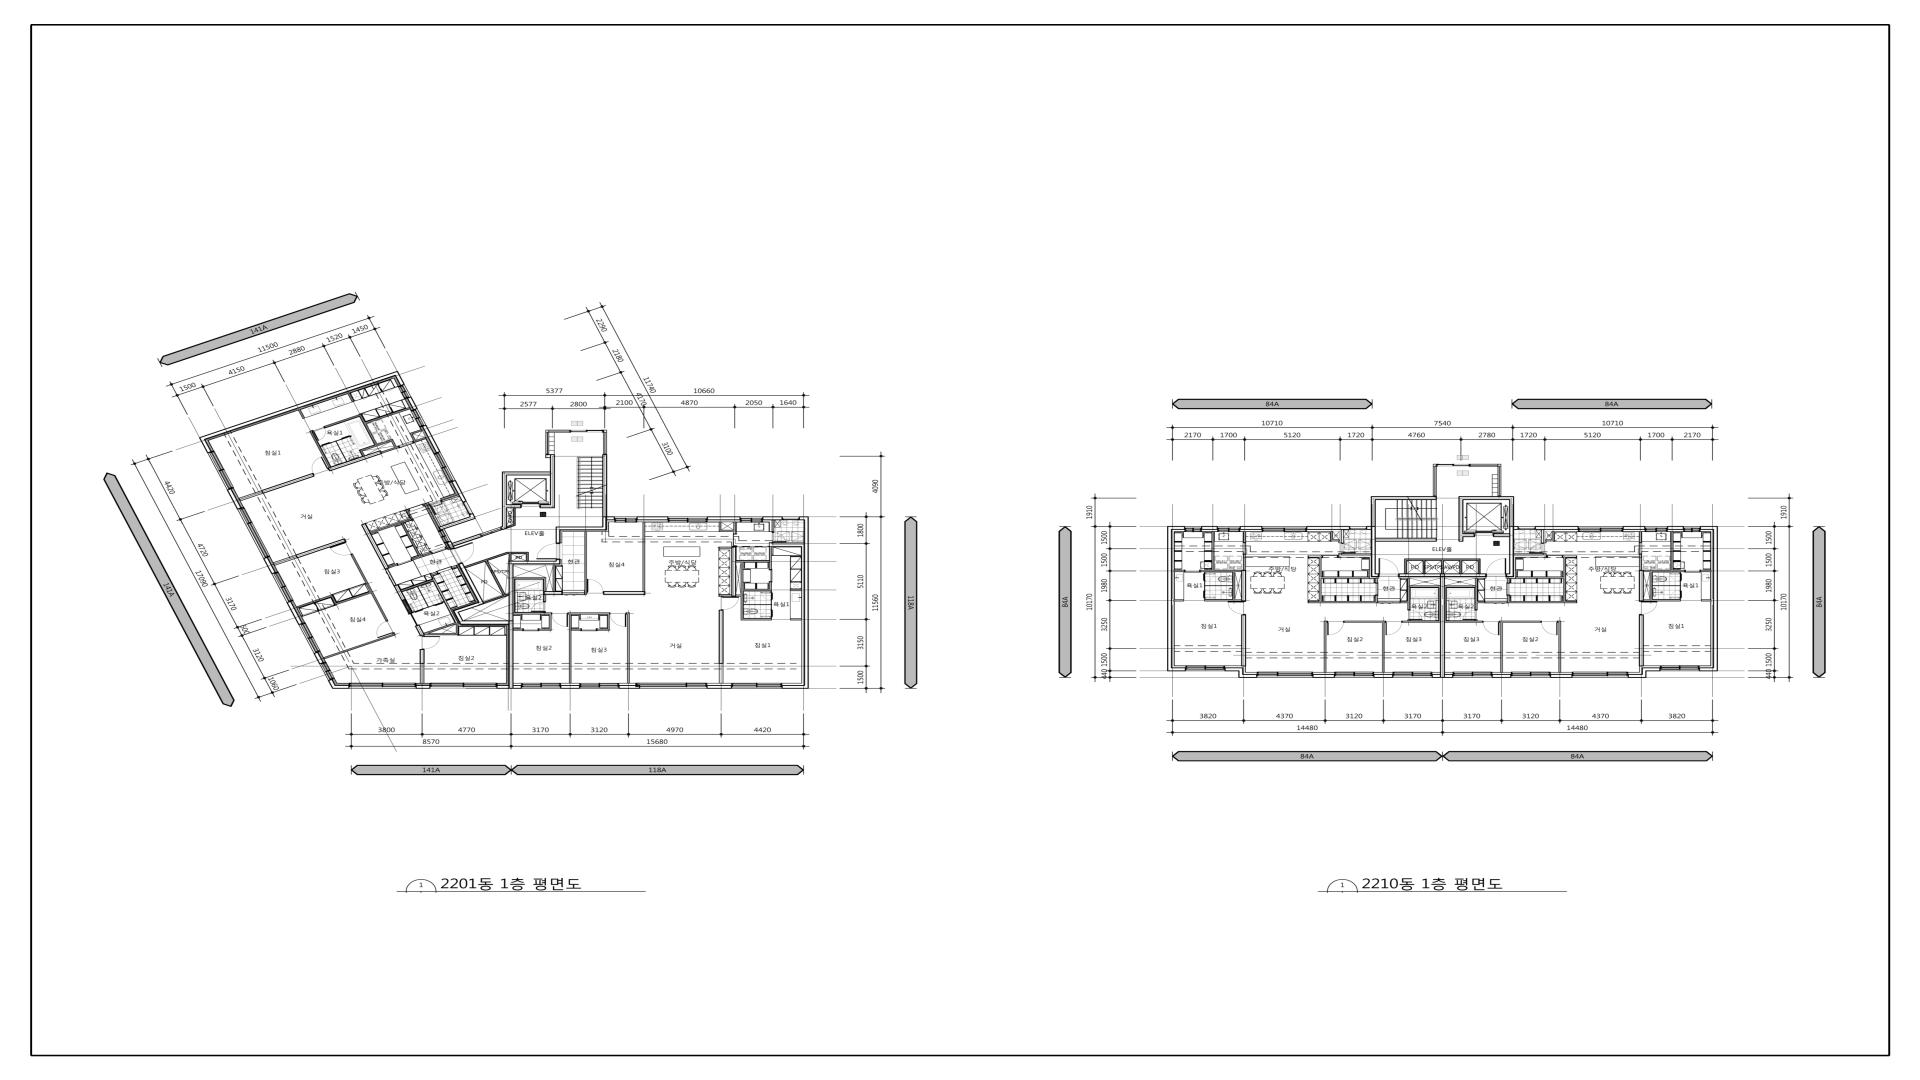door: (451, 542, 481, 564), (330, 542, 353, 560), (371, 620, 394, 638), (1485, 558, 1506, 578), (1378, 558, 1399, 578), (307, 456, 328, 475), (537, 543, 560, 559), (1440, 524, 1458, 542), (609, 612, 626, 628), (551, 612, 568, 628), (430, 500, 447, 516), (311, 426, 330, 440), (1327, 621, 1345, 636), (1385, 621, 1403, 636), (1482, 621, 1501, 636), (1540, 621, 1559, 636), (1639, 601, 1658, 616), (587, 579, 604, 593), (422, 636, 440, 649), (1228, 601, 1246, 615), (721, 596, 738, 609), (385, 568, 397, 585), (320, 442, 335, 454), (340, 435, 355, 447), (530, 601, 546, 612), (1407, 609, 1423, 620), (409, 601, 423, 612), (429, 595, 443, 605), (1341, 543, 1356, 554), (1462, 609, 1477, 620), (1530, 543, 1544, 554), (771, 531, 786, 542), (398, 440, 414, 448), (1204, 589, 1216, 599), (1669, 589, 1681, 599), (761, 592, 771, 601), (1669, 574, 1681, 582), (761, 609, 771, 617), (1204, 574, 1215, 582), (1485, 601, 1507, 604), (563, 592, 584, 595), (1321, 555, 1338, 558), (1684, 570, 1701, 572), (1184, 570, 1200, 572), (1547, 555, 1563, 558), (1244, 542, 1246, 555), (1639, 542, 1642, 555), (1378, 601, 1400, 603)
wall: (199, 371, 400, 440), (351, 554, 388, 621), (323, 633, 396, 659), (430, 574, 458, 622), (361, 524, 389, 570), (328, 450, 382, 471), (458, 563, 484, 605), (261, 473, 314, 493), (295, 538, 347, 558), (310, 430, 331, 468), (464, 551, 508, 568), (1713, 530, 1718, 671), (1167, 530, 1172, 667), (365, 407, 410, 423), (401, 522, 421, 556), (485, 560, 505, 595), (804, 520, 808, 688), (359, 414, 378, 447), (371, 518, 410, 534), (1440, 578, 1445, 678), (324, 414, 360, 429), (335, 591, 371, 605), (422, 425, 440, 452), (423, 621, 459, 634), (438, 517, 472, 530), (297, 595, 331, 608), (401, 579, 434, 592), (286, 601, 303, 625), (452, 601, 480, 615), (452, 534, 483, 546), (427, 504, 440, 527), (452, 481, 467, 502), (227, 488, 241, 509), (719, 609, 724, 663), (626, 612, 630, 683), (550, 455, 555, 508), (1241, 615, 1246, 666), (509, 621, 513, 688), (1639, 616, 1644, 666), (484, 593, 509, 604), (732, 546, 737, 596), (460, 620, 509, 625), (1375, 538, 1440, 542), (1375, 496, 1439, 500), (1370, 526, 1375, 574), (1509, 526, 1514, 574), (239, 491, 262, 501), (273, 555, 297, 566), (603, 455, 607, 517), (335, 442, 347, 462), (417, 587, 429, 607), (502, 472, 506, 529), (509, 564, 513, 621), (1458, 500, 1464, 542), (1458, 496, 1514, 500), (393, 584, 406, 600), (555, 526, 603, 530), (509, 560, 556, 564), (264, 558, 276, 574), (642, 522, 645, 591), (568, 615, 571, 683), (1307, 526, 1350, 530), (1535, 526, 1578, 530), (506, 472, 550, 476), (1241, 570, 1246, 601), (402, 599, 413, 615), (411, 553, 433, 560), (584, 531, 587, 595), (1399, 574, 1440, 578), (604, 591, 645, 595), (1445, 574, 1485, 578), (200, 439, 211, 454), (741, 562, 744, 620), (381, 446, 400, 454), (442, 495, 459, 502), (1324, 622, 1327, 673), (1382, 622, 1385, 673), (1501, 622, 1503, 673), (1559, 622, 1561, 673), (707, 517, 740, 521), (1515, 576, 1564, 579), (1321, 576, 1369, 579), (1639, 570, 1643, 601), (637, 517, 669, 521), (407, 397, 417, 410), (1563, 555, 1565, 601), (405, 508, 414, 521), (1371, 496, 1375, 526), (1319, 558, 1321, 601), (394, 375, 405, 385), (1200, 570, 1241, 572), (1643, 570, 1684, 572), (568, 612, 609, 615), (1510, 500, 1514, 526), (1232, 572, 1236, 599), (455, 612, 463, 625), (719, 663, 724, 683), (1212, 531, 1215, 570), (1643, 599, 1681, 601), (1671, 531, 1673, 570), (1404, 559, 1481, 560), (513, 612, 551, 615), (707, 684, 732, 688), (1204, 599, 1241, 601), (314, 653, 323, 663), (415, 625, 425, 636), (377, 439, 392, 446), (361, 444, 376, 451), (1308, 601, 1378, 603), (513, 579, 516, 613), (1510, 601, 1577, 603), (1240, 526, 1262, 530), (1623, 526, 1646, 530), (782, 684, 804, 688), (425, 633, 458, 636), (413, 436, 426, 443), (736, 560, 769, 563), (1551, 674, 1572, 678), (1313, 674, 1335, 678), (1407, 578, 1410, 609), (1433, 464, 1436, 496), (1469, 464, 1501, 467), (762, 517, 782, 521), (560, 684, 580, 688), (421, 663, 425, 683), (543, 591, 563, 595), (1498, 467, 1501, 496), (419, 649, 425, 663), (1642, 667, 1660, 671), (1629, 674, 1647, 678), (1493, 674, 1511, 678), (1374, 674, 1393, 678), (1238, 674, 1257, 678), (1225, 667, 1244, 671), (1167, 667, 1185, 671), (1700, 526, 1718, 530), (347, 393, 355, 402), (1650, 572, 1652, 599), (603, 517, 608, 530), (555, 530, 560, 543), (298, 409, 305, 419), (1493, 533, 1510, 537), (1167, 526, 1184, 530), (618, 684, 636, 688), (332, 684, 349, 688), (553, 566, 555, 591), (1201, 526, 1217, 530), (1668, 526, 1684, 530), (769, 546, 771, 570), (328, 679, 335, 688), (506, 504, 521, 508), (411, 429, 422, 434), (508, 551, 529, 554), (1499, 621, 1540, 622), (447, 542, 455, 549), (1700, 667, 1713, 671), (1345, 621, 1385, 622), (417, 684, 430, 688), (390, 439, 397, 447), (359, 448, 365, 456), (330, 595, 336, 603), (1403, 621, 1440, 622), (1445, 621, 1482, 622), (513, 508, 516, 526), (389, 563, 398, 568), (506, 524, 516, 529), (1439, 585, 1440, 621), (497, 684, 509, 688), (469, 513, 476, 520), (513, 578, 546, 579), (1464, 533, 1474, 537), (1242, 531, 1246, 542), (1244, 554, 1246, 570), (1476, 578, 1477, 609), (1639, 554, 1642, 570), (539, 504, 550, 508), (331, 439, 342, 443), (410, 433, 415, 440), (549, 615, 551, 630), (607, 615, 609, 630), (1445, 585, 1476, 587), (1514, 554, 1544, 555), (1410, 585, 1439, 587), (742, 618, 771, 620), (423, 605, 433, 609), (744, 589, 771, 591), (744, 604, 771, 605), (1341, 530, 1344, 543), (1308, 555, 1321, 558), (1542, 530, 1544, 543), (1478, 560, 1481, 574), (1460, 560, 1462, 574), (1441, 560, 1444, 574), (1423, 560, 1425, 574), (1404, 560, 1407, 574), (1445, 674, 1453, 678), (1432, 674, 1440, 678), (1370, 574, 1378, 578), (1506, 574, 1514, 578), (607, 517, 615, 521), (513, 684, 521, 688), (543, 579, 546, 591), (733, 522, 736, 534), (771, 520, 774, 531), (790, 588, 802, 591), (1174, 570, 1184, 572), (1565, 555, 1576, 558), (1639, 531, 1642, 542), (1701, 599, 1712, 601), (1701, 570, 1712, 572), (555, 559, 560, 564), (500, 526, 506, 530), (451, 564, 458, 568), (431, 571, 438, 575), (1331, 531, 1333, 541), (799, 517, 808, 520), (456, 624, 459, 633), (719, 522, 721, 531), (1366, 526, 1371, 530), (1440, 574, 1445, 578), (1507, 596, 1510, 603), (509, 554, 512, 560), (526, 554, 529, 560), (543, 595, 546, 601), (719, 595, 732, 596), (719, 547, 732, 549), (769, 583, 771, 589), (1514, 526, 1518, 530), (721, 530, 733, 531), (790, 618, 802, 620), (1642, 671, 1647, 674), (1238, 671, 1244, 674), (1375, 596, 1378, 601), (1375, 578, 1378, 583), (1507, 578, 1510, 583), (571, 629, 582, 630), (1204, 582, 1205, 591), (1680, 582, 1681, 591), (539, 629, 549, 630), (513, 629, 522, 630), (597, 629, 607, 630), (1477, 601, 1485, 603), (1545, 539, 1553, 541), (1552, 531, 1553, 539), (546, 455, 550, 458), (1333, 539, 1340, 541), (1400, 601, 1407, 603), (546, 430, 549, 433), (604, 430, 607, 433), (1324, 621, 1327, 622), (1559, 621, 1561, 622), (1476, 620, 1477, 621), (1408, 620, 1410, 621), (1205, 585, 1232, 585), (1445, 585, 1445, 621), (1652, 585, 1680, 585), (771, 600, 771, 609)
window: (237, 506, 270, 559), (207, 451, 233, 489), (272, 571, 294, 603), (298, 622, 320, 654), (434, 451, 456, 483), (636, 683, 707, 688), (1572, 671, 1629, 678), (1257, 671, 1313, 678), (349, 683, 417, 688), (430, 683, 497, 688), (319, 662, 335, 680), (410, 409, 426, 427), (732, 683, 782, 688), (1511, 671, 1551, 678), (1453, 671, 1493, 678), (1393, 671, 1432, 678), (1335, 671, 1374, 678), (1262, 526, 1307, 531), (1578, 526, 1623, 531), (1660, 666, 1700, 671), (1185, 666, 1225, 671), (521, 683, 560, 688), (579, 683, 618, 688), (480, 527, 502, 537), (669, 517, 707, 522), (438, 529, 451, 543), (398, 384, 411, 398), (463, 501, 473, 514), (1644, 526, 1668, 531), (1217, 526, 1240, 531), (740, 517, 762, 522), (615, 517, 637, 522), (1184, 526, 1201, 531), (1684, 526, 1701, 531), (1436, 464, 1469, 467), (570, 430, 603, 433), (603, 433, 607, 454), (1439, 496, 1458, 500), (1349, 526, 1366, 530), (1518, 526, 1535, 530), (546, 433, 549, 454), (549, 430, 570, 433), (782, 517, 799, 520)
